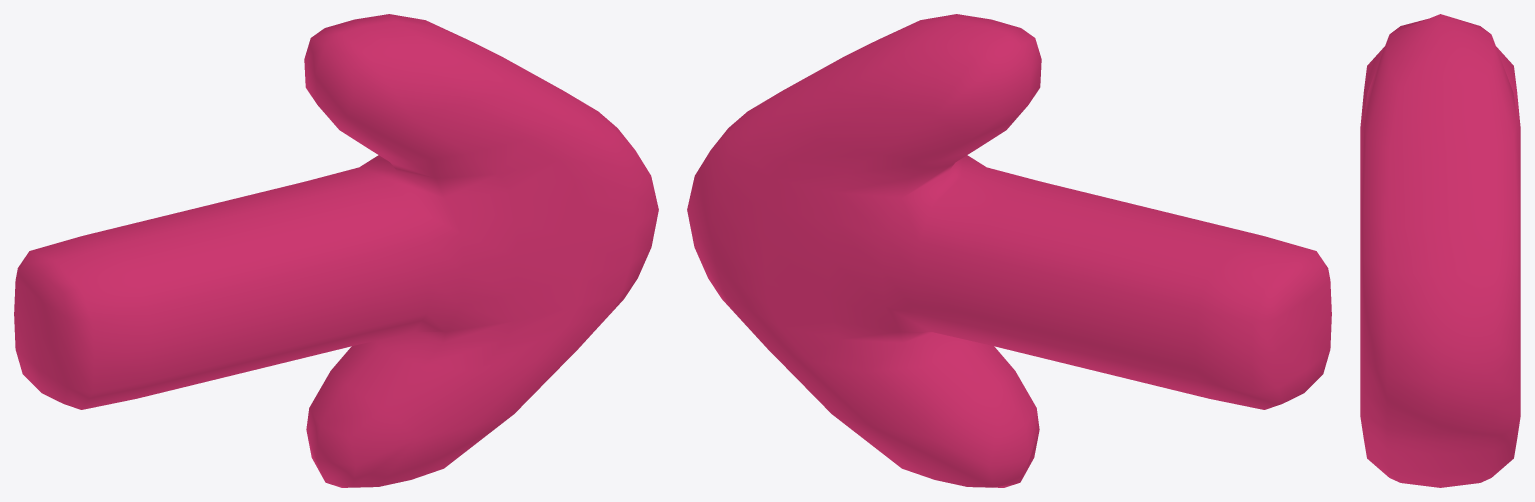
The model's file is arrow_pink.glb.
The picture shows the model from 3 angles, left to right: view 1: azimuth 30°, elevation 25°; view 2: azimuth 150°, elevation 25°; view 3: azimuth 270°, elevation 25°; orthographic projection.
Visible parts, largest first — view 1: Cube.006; view 2: Cube.006; view 3: Cube.006.
Part boxes in pixels (x1,y1,x2,y2): Cube.006: (14, 14, 658, 487); Cube.006: (687, 14, 1331, 487); Cube.006: (1360, 14, 1520, 487).
Bounding box in the file's own units: 4.39 × 3.17 × 1.02.
1 material, 1 textured.
